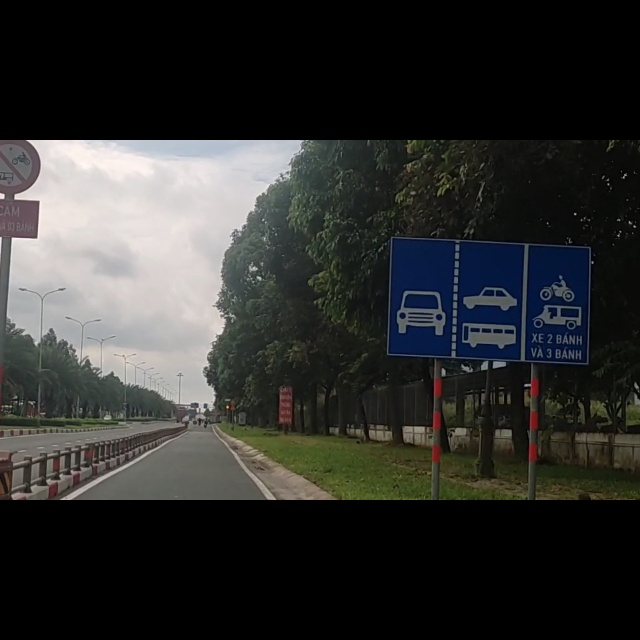bien_cam: (388, 169, 591, 398)
